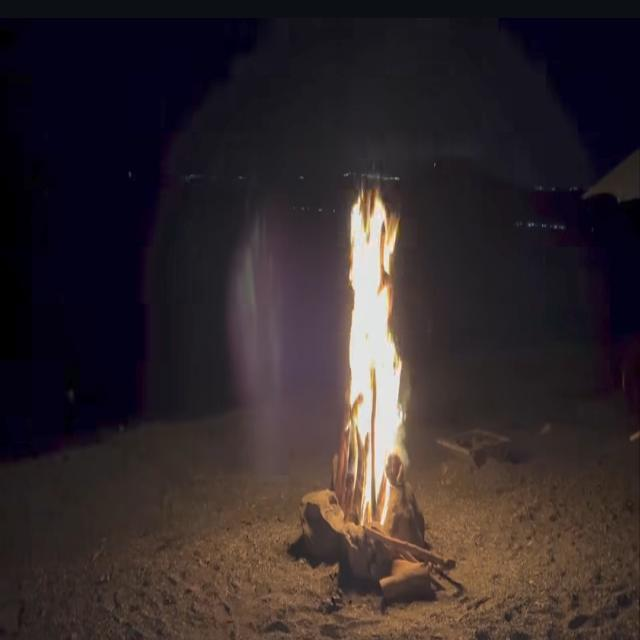fire: (351, 186, 402, 524)
